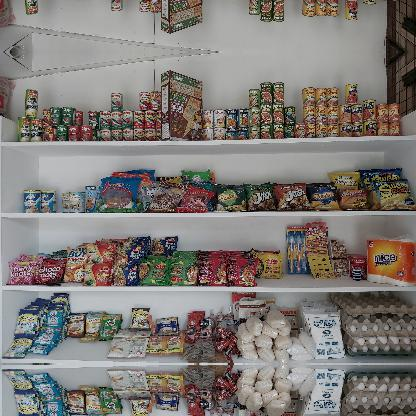Koko-Krunch: (160, 70, 202, 140), (160, 0, 203, 35)
